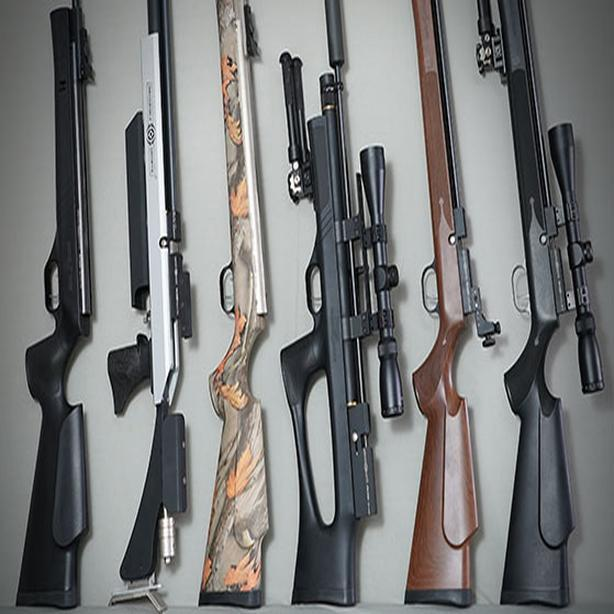Firearm: (479, 0, 613, 614), (281, 2, 395, 614), (402, 0, 502, 614), (105, 0, 198, 614), (12, 2, 101, 614), (202, 1, 278, 601)
